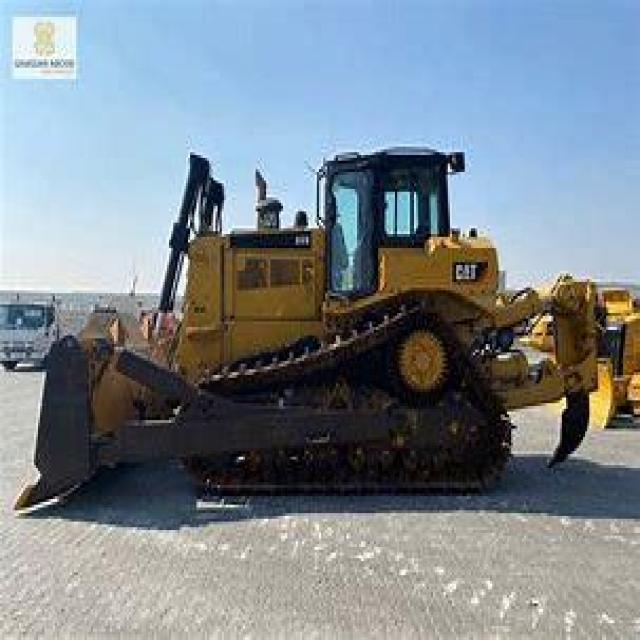Bulldozer: (12, 124, 598, 522)
